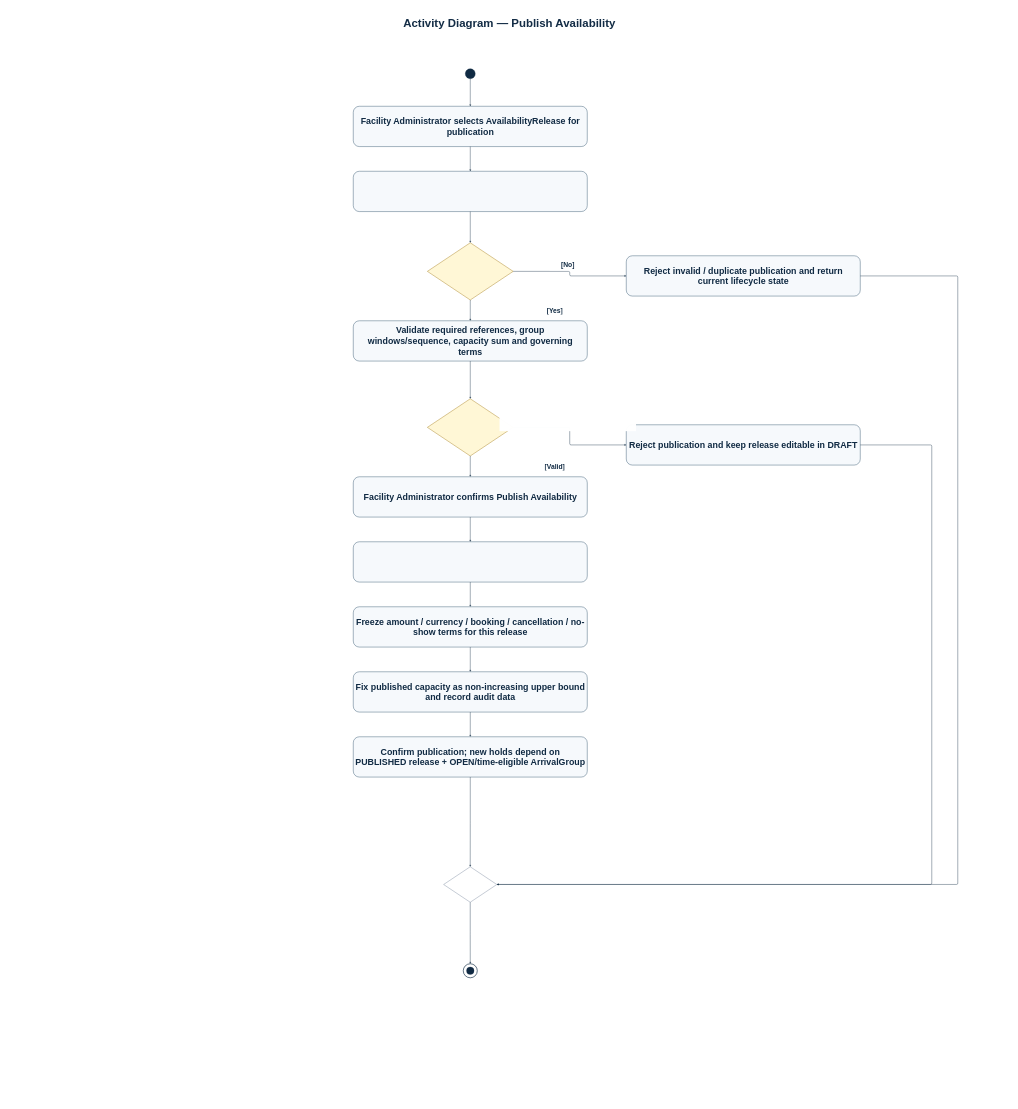
This 1018x1109 diagram has some shape labels left out. Each missing label, with the box of its shape:
[Invalid / group-capacity mismatch / missing terms]: (499, 413, 636, 431)
Display configured session, ArrivalGroups, capacities and governing terms: (353, 171, 587, 212)
Publication configuration valid?: (427, 399, 513, 456)
Release lifecycle is DRAFT?: (427, 243, 513, 300)
Transition AvailabilityRelease from DRAFT to PUBLISHED: (353, 542, 587, 582)
